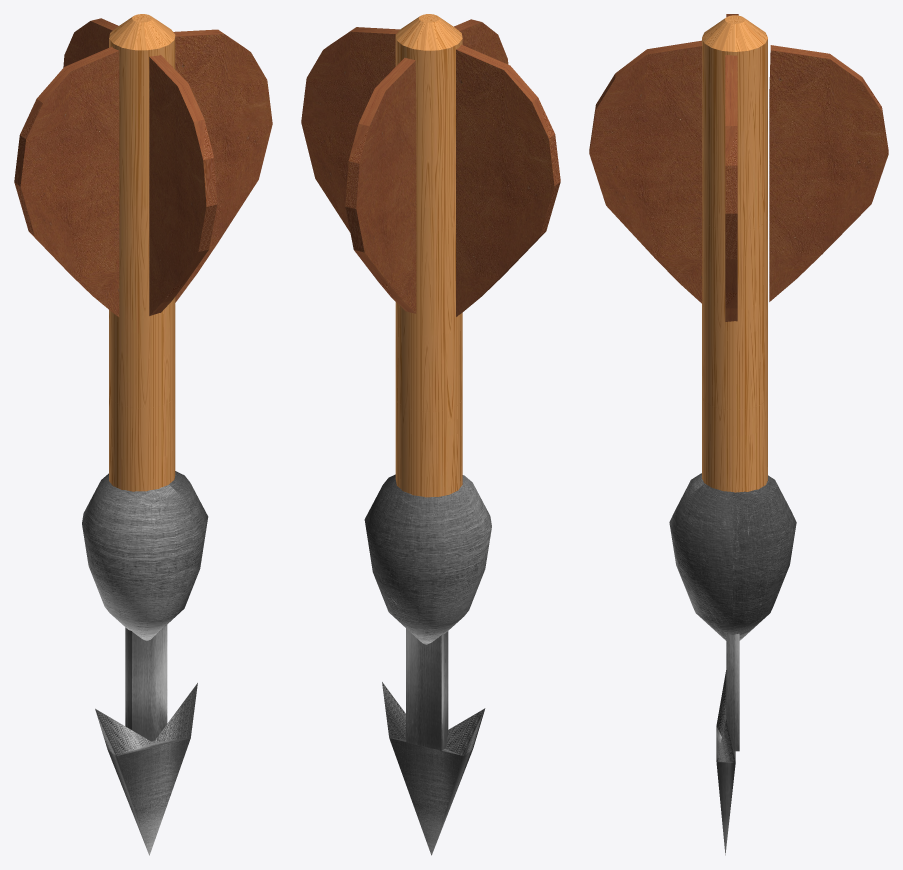
Rendered from dardo XForm.fbx.
3 views of the same model, side by side, from view 1: azimuth 30°, elevation 25°; view 2: azimuth 150°, elevation 25°; view 3: azimuth 270°, elevation 25° (orthographic).
Visible parts, largest first — view 1: Cylinder002, Box002, Cylinder001, Box003, Box005, Pyramid001, Box001, Box004; view 2: Cylinder002, Box002, Cylinder001, Box004, Box005, Pyramid001, Box001, Box003; view 3: Cylinder002, Box004, Box003, Cylinder001, Box005, Pyramid001, Box001.
Boxes of the visible parts, x1=… form: Cylinder002: x1=109, y1=14, x2=175, y2=491; Box002: x1=14, y1=46, x2=119, y2=316; Cylinder001: x1=82, y1=471, x2=208, y2=640; Box003: x1=149, y1=55, x2=217, y2=315; Box005: x1=173, y1=29, x2=272, y2=302; Pyramid001: x1=95, y1=683, x2=197, y2=855; Box001: x1=125, y1=625, x2=167, y2=741; Box004: x1=63, y1=18, x2=118, y2=67; Cylinder002: x1=395, y1=14, x2=462, y2=497; Box002: x1=456, y1=44, x2=560, y2=316; Cylinder001: x1=364, y1=474, x2=491, y2=644; Box004: x1=345, y1=57, x2=416, y2=313; Box005: x1=301, y1=27, x2=399, y2=232; Pyramid001: x1=382, y1=682, x2=485, y2=855; Box001: x1=406, y1=628, x2=448, y2=750; Box003: x1=454, y1=19, x2=508, y2=64; Cylinder002: x1=702, y1=15, x2=767, y2=492; Box004: x1=769, y1=45, x2=888, y2=301; Box003: x1=589, y1=40, x2=702, y2=303; Cylinder001: x1=669, y1=473, x2=796, y2=640; Box005: x1=725, y1=55, x2=737, y2=321; Pyramid001: x1=716, y1=670, x2=735, y2=855; Box001: x1=726, y1=633, x2=739, y2=751.
Size of the model in its own units: 8.5 by 26.94 by 8.74.
